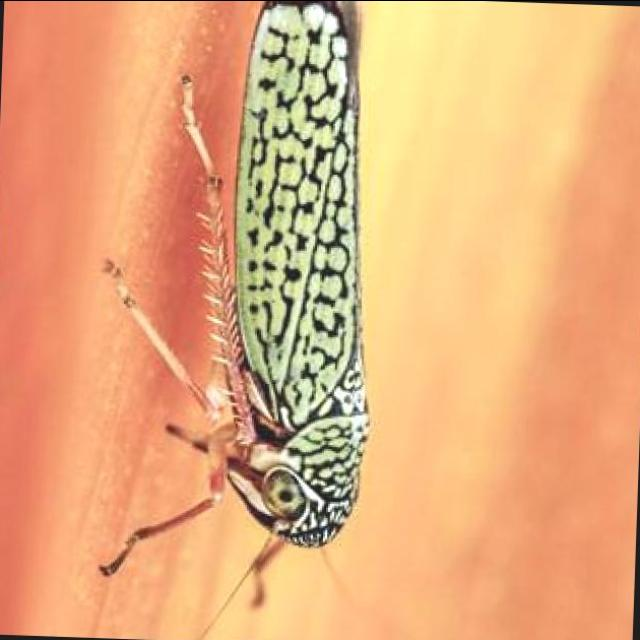green leaf hopper: (101, 0, 370, 605)
